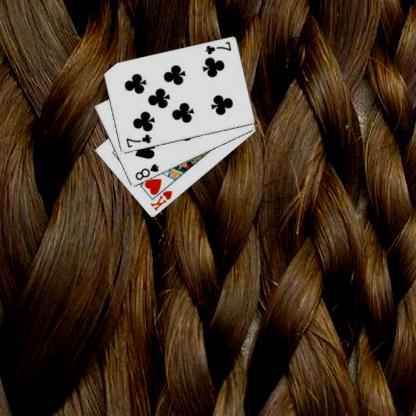7C: (123, 132, 153, 149), (203, 39, 232, 56)
8S: (132, 161, 160, 182)
KH: (148, 188, 174, 212)
